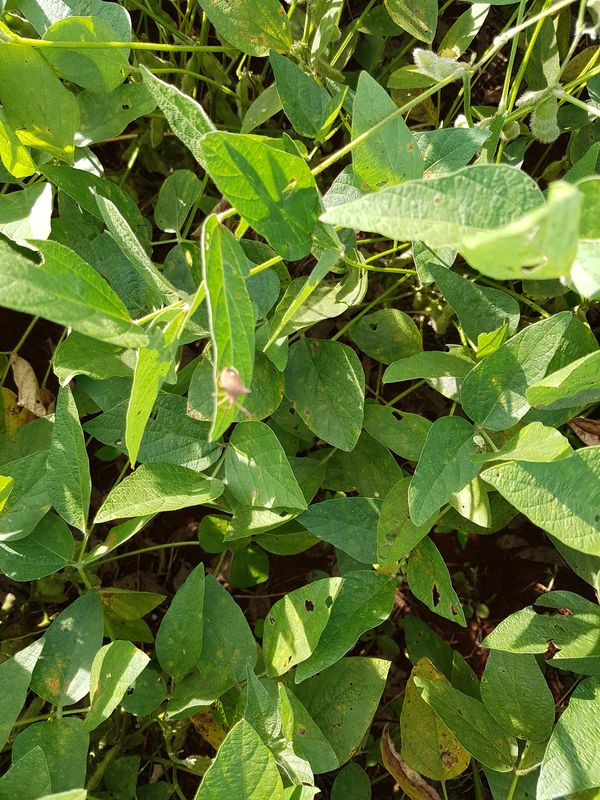Euschistus_heros_adulto: (207, 361, 258, 418)
